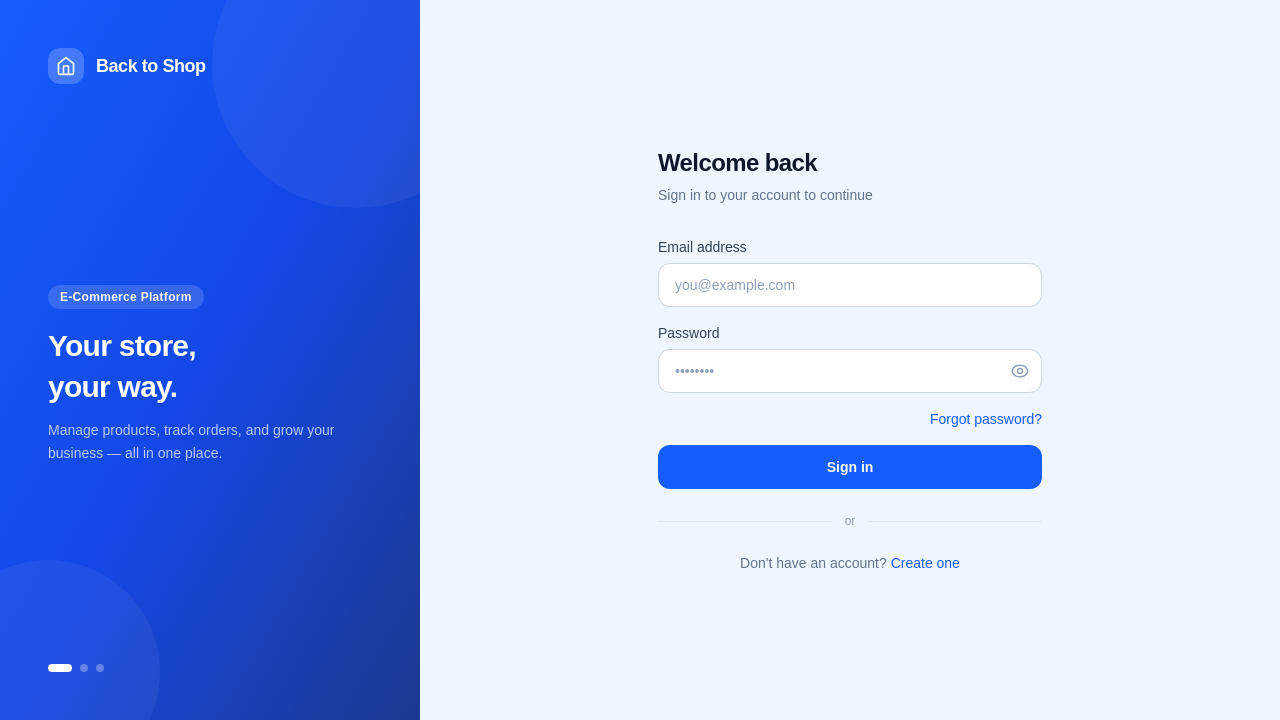
Test: LoginPage — failed login › shows error message on invalid credentials
The image size is (1280, 720).
Type "user@example.com" into the field with placeholder "you@example.com".
click(850, 285); type("user@example.com")  # box [658,263,1042,307]
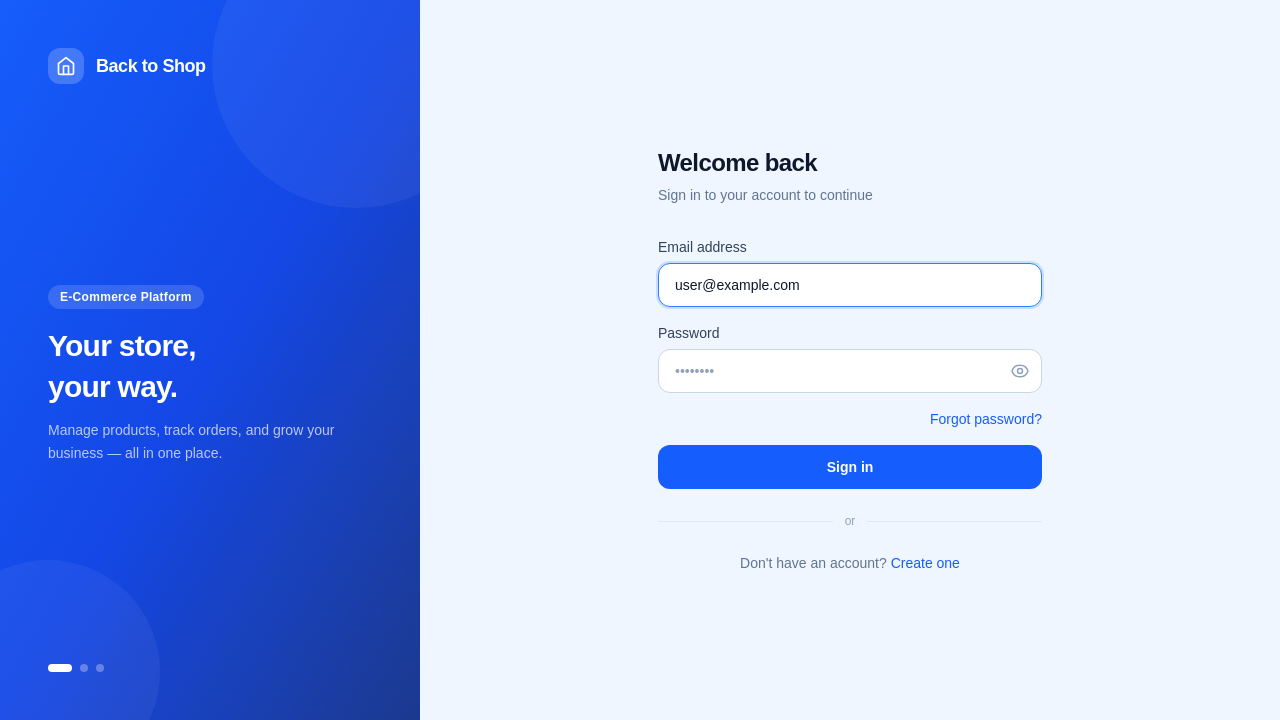
Type "password123" into the password field with placeholder "••••••••".
click(850, 371); type("password123")  # box [658,349,1042,393]
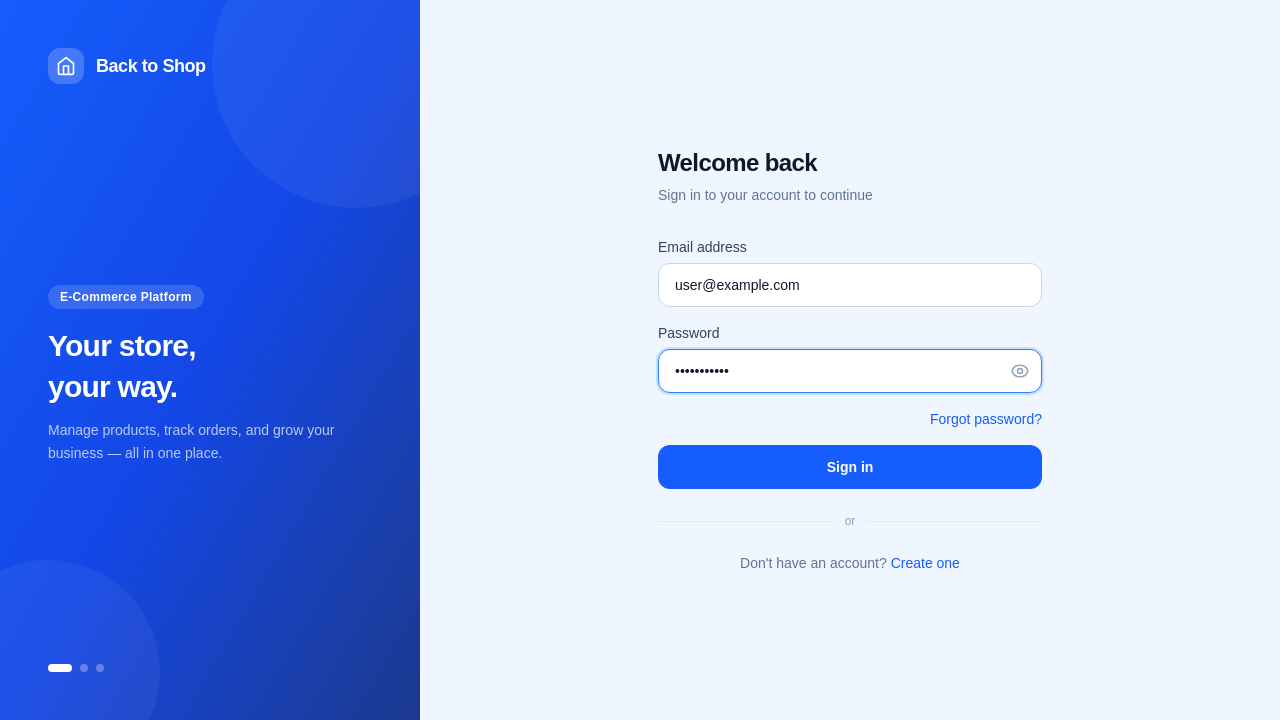
Click the button "Sign in".
click(850, 467)  # box [658,445,1042,489]
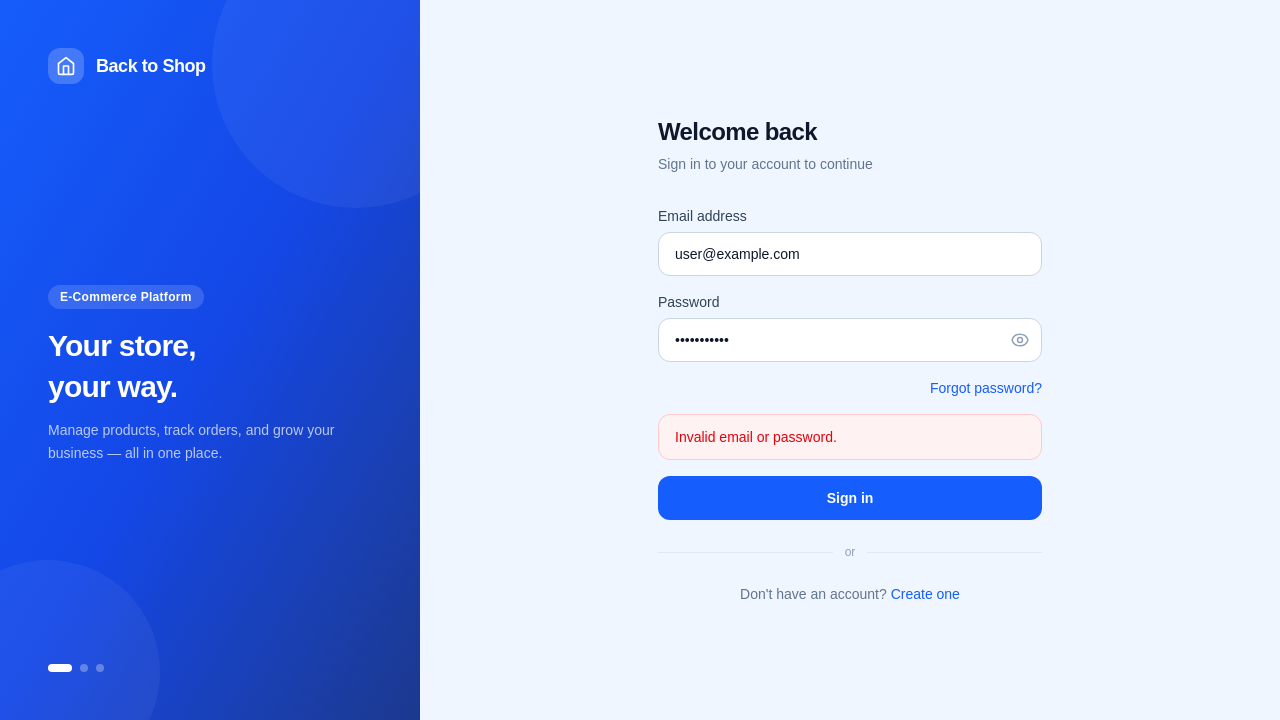
expect the text "Invalid email or password." is shown: met, box [658,414,1042,460]
